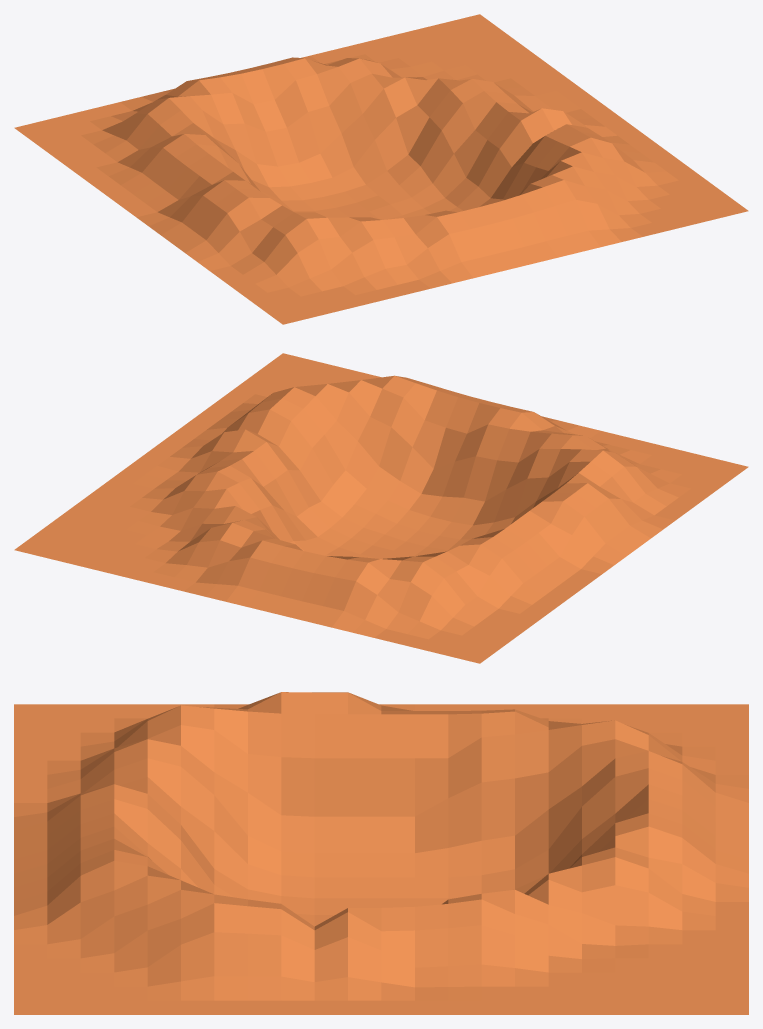
The model's file is sand_crater.fbx.
3 views of the same model, one above another, from view 1: azimuth 30°, elevation 25°; view 2: azimuth 150°, elevation 25°; view 3: azimuth 270°, elevation 25° (orthographic). The views are drawn at different scales.
Visible parts, largest first — view 1: Plane.003; view 2: Plane.003; view 3: Plane.003.
Boxes of the visible parts, x1,y1,x2,y2 form: Plane.003: [14, 14, 748, 324]; Plane.003: [14, 353, 748, 663]; Plane.003: [14, 692, 748, 1014].
Size of the model in its own units: 866 by 163 by 866.
